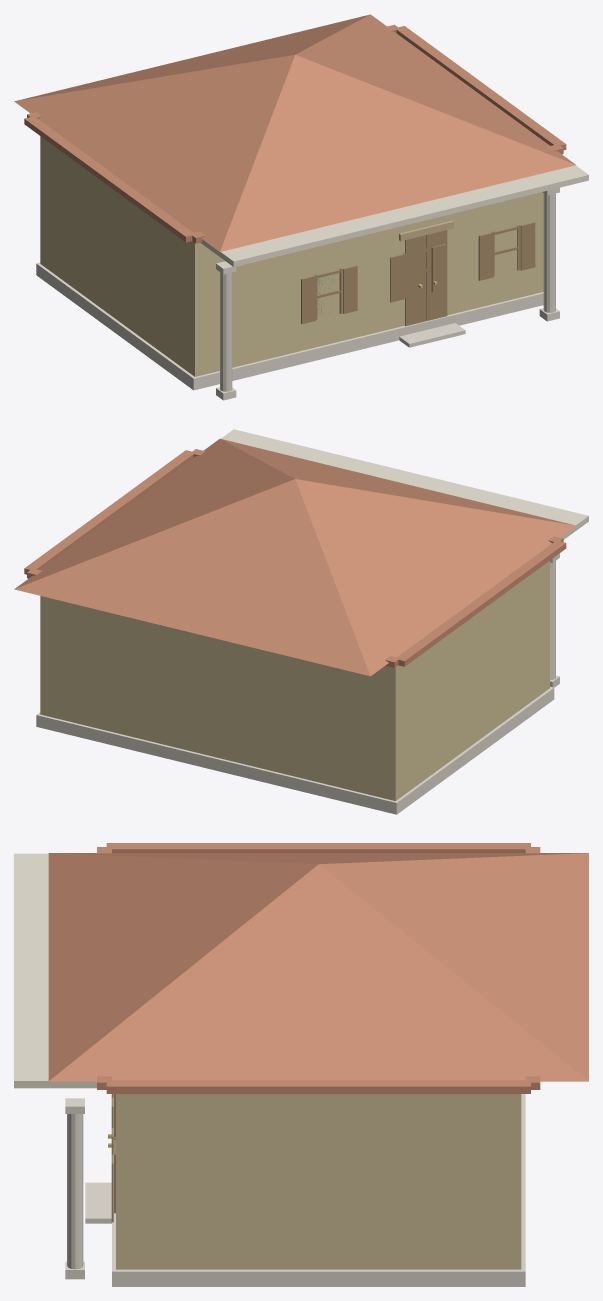
File: mdl_buildings_house_colonial_01_001.glb
The picture shows the model from 3 angles, top to bottom: view 1: azimuth 30°, elevation 25°; view 2: azimuth 150°, elevation 25°; view 3: azimuth 270°, elevation 25°; orthographic projection. The views are drawn at different scales.
Parts seen in each view (by area): view 1: m_teja, m_fachada, m_caliza, m_madera, m_crema; view 2: m_teja, m_fachada, m_caliza, m_crema; view 3: m_teja, m_fachada, m_caliza, m_crema, m_madera.
Part boxes in pixels (box(x1,y1,x2,y2)): m_teja: box(14, 14, 575, 251); m_fachada: box(40, 136, 543, 376); m_caliza: box(36, 187, 559, 400); m_madera: box(301, 222, 535, 326); m_crema: box(200, 165, 588, 266); m_teja: box(14, 438, 575, 676); m_fachada: box(40, 560, 549, 800); m_caliza: box(36, 553, 559, 814); m_crema: box(221, 429, 588, 539); m_teja: box(48, 843, 588, 1093); m_fachada: box(116, 1094, 521, 1269); m_caliza: box(65, 1094, 525, 1286); m_crema: box(14, 853, 96, 1088); m_madera: box(111, 1094, 115, 1222).
Size of the model in its own units: 8.47 by 4.98 by 8.45.
